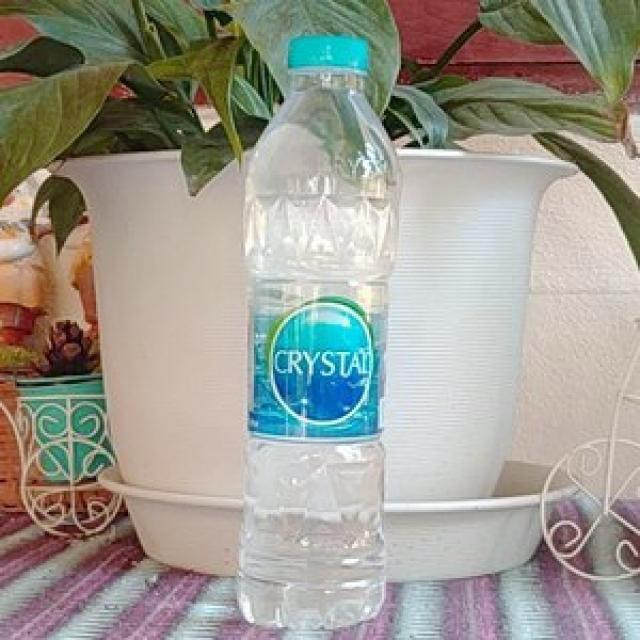bottle: (237, 36, 402, 632)
